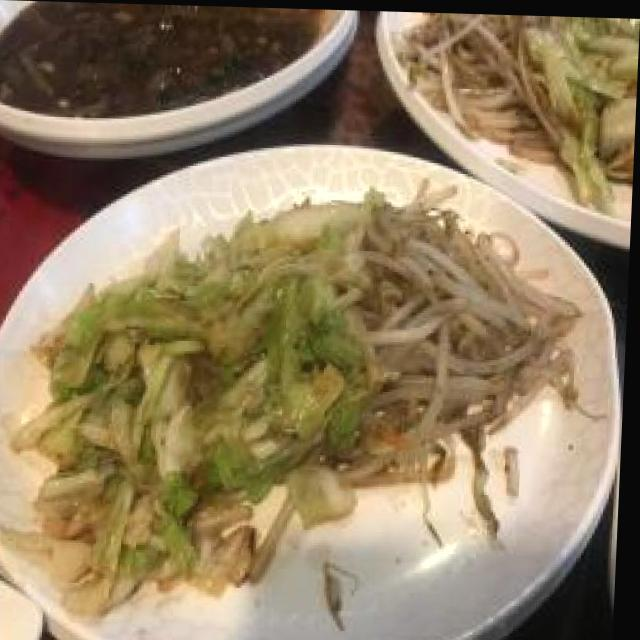chinese_cabbage: (40, 186, 369, 594), (536, 13, 640, 183)
mung_bean_sprouts: (351, 177, 595, 492), (398, 11, 546, 153)
